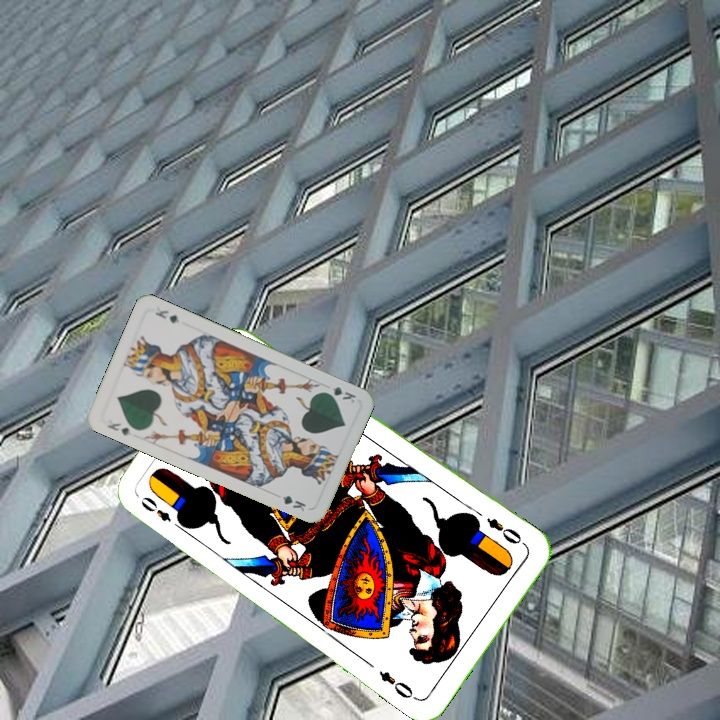EO: (137, 492, 187, 533), (482, 514, 529, 549)
GK: (319, 382, 359, 406), (103, 418, 135, 438)
